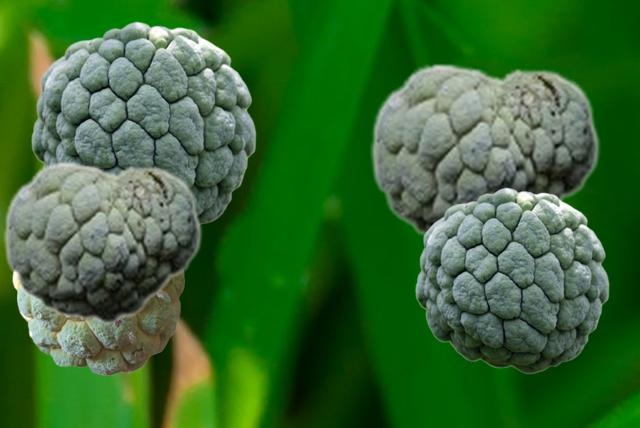atis: (31, 21, 255, 225), (370, 62, 599, 239), (415, 187, 608, 373), (3, 160, 201, 324), (12, 274, 183, 374)
